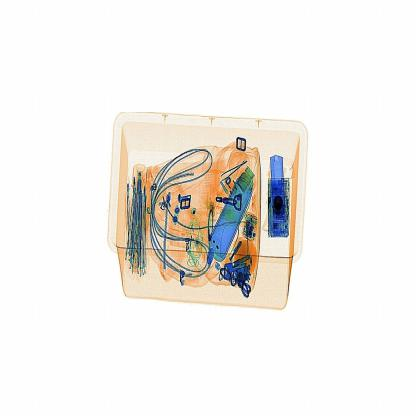pliers: (261, 144, 293, 245)
